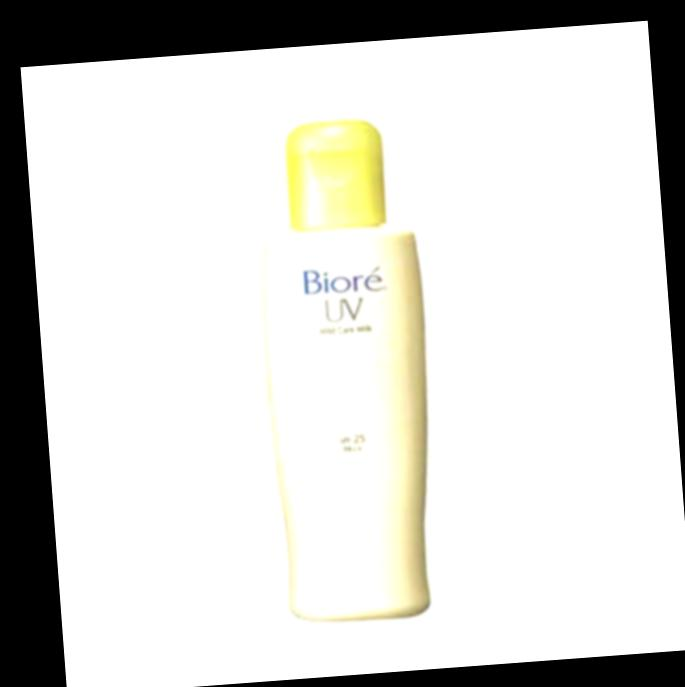cosmetic: (247, 110, 446, 626)
